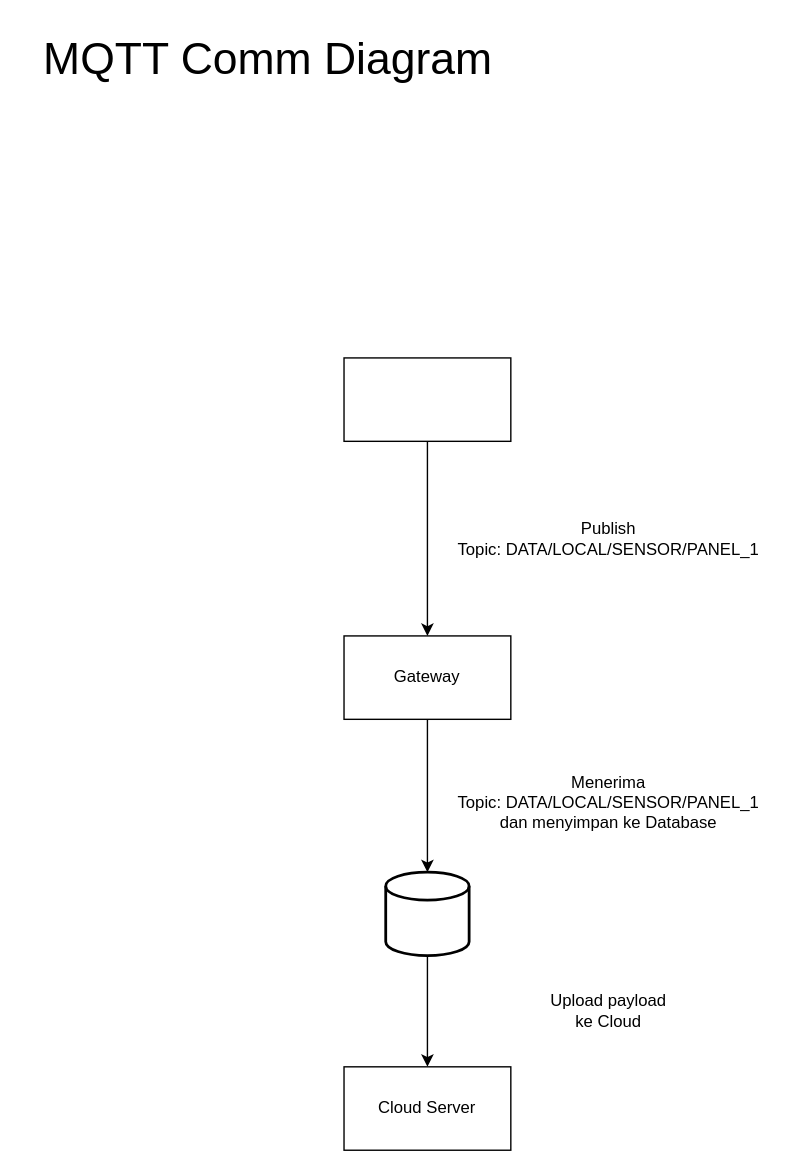
The diagram is 798 pixels wide and 1175 high, and some of its shapes have lost their labels. The shapes that lost their labels are listed below. From the top down, each one's box as (x1, y1, x2, y2) in pixels, then its label:
(343, 357, 511, 441): Node
(384, 870, 470, 956): MySQL
